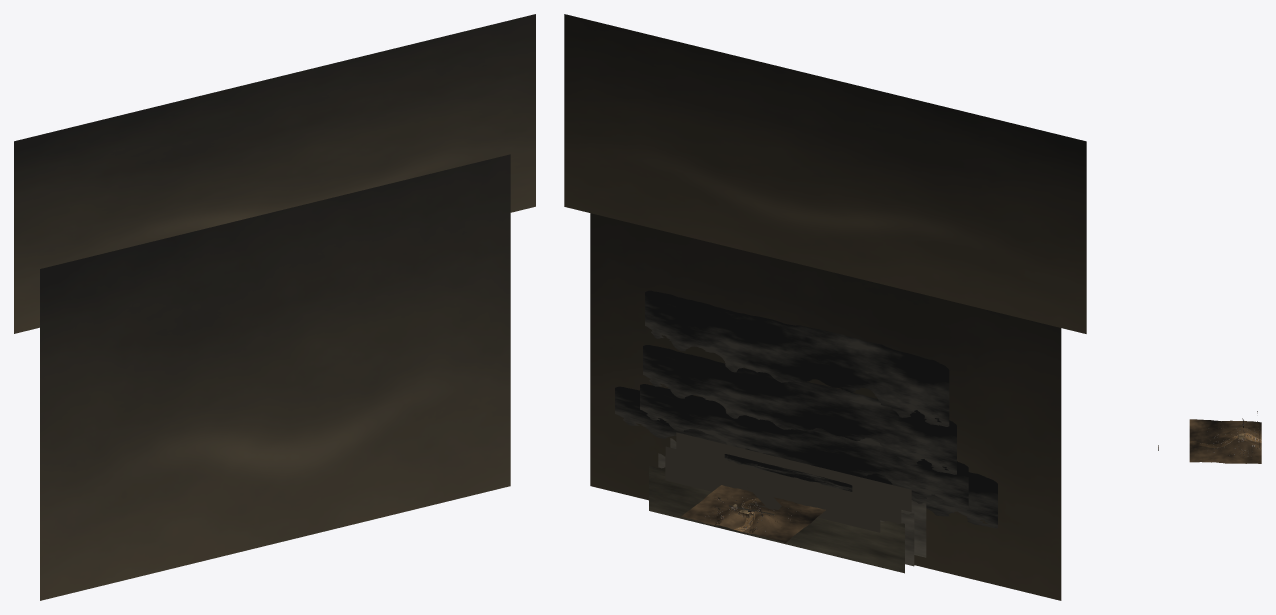
Rendered from WandererCg_v4.fbx.
The picture shows the model from 3 angles, left to right: view 1: azimuth 30°, elevation 25°; view 2: azimuth 150°, elevation 25°; view 3: azimuth 270°, elevation 25°; orthographic projection. The views are drawn at different scales.
Parts seen in each view (by area): view 1: far_sky, far_sky_upper; view 2: far_sky_upper, far_sky, cloud_layer_03, cloud_layer_02, cloud_layer_01, far_ridge_2, valley_mist, cloud_layer_00, mid_highland_slope, ridge_mist_far, ridge_mist_mid, cloud_low_scud_00 (+2 smaller); view 3: mid_highland_slope.
Part boxes in pixels (<box>): far_sky: <box>40,154,510,600</box>; far_sky_upper: <box>14,14,535,333</box>; far_sky_upper: <box>564,14,1086,333</box>; far_sky: <box>590,213,1061,600</box>; cloud_layer_03: <box>645,290,949,426</box>; cloud_layer_02: <box>643,345,956,474</box>; cloud_layer_01: <box>640,384,968,509</box>; far_ridge_2: <box>649,465,904,573</box>; valley_mist: <box>665,456,880,532</box>; cloud_layer_00: <box>615,386,997,528</box>; mid_highland_slope: <box>681,485,825,542</box>; ridge_mist_far: <box>676,432,911,511</box>; ridge_mist_mid: <box>665,446,901,523</box>; cloud_low_scud_00: <box>724,454,852,491</box>; mid_highland_slope: <box>1189,419,1261,463</box>.
Size of what is drawn, in the model's own units: 510 by 435 by 150.
27 materials, 23 textured.
